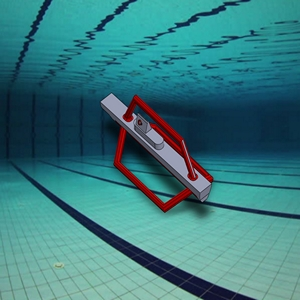submarine: (85, 88, 218, 217)
